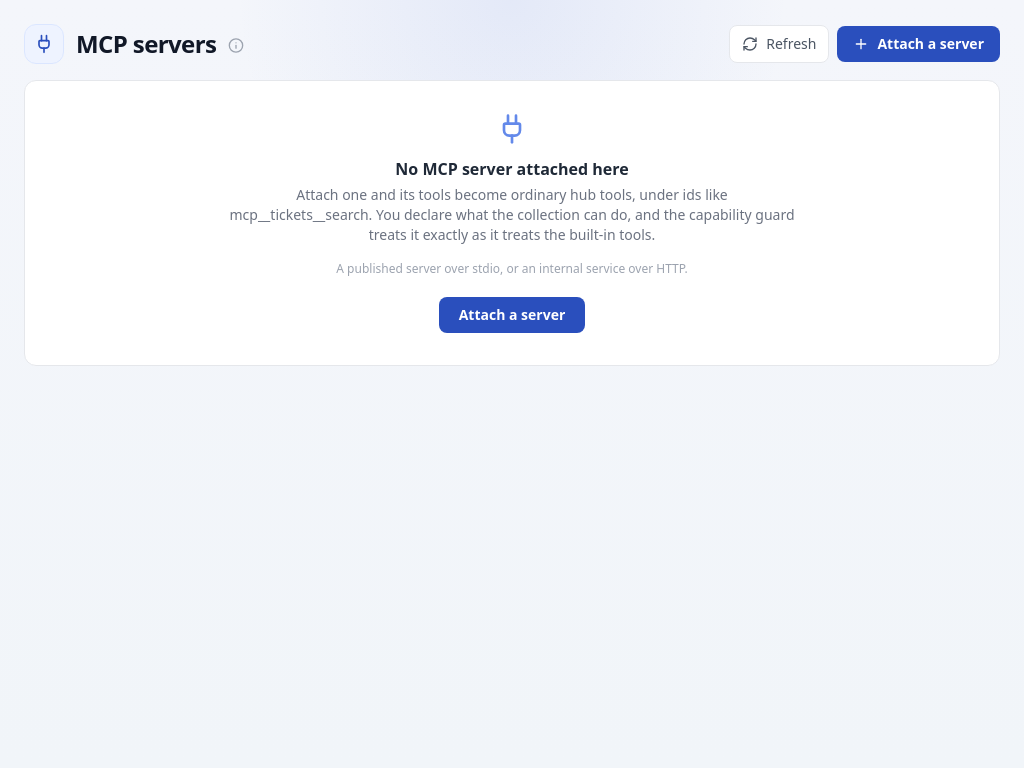
Scenario: Mcp — the empty state › asks for the capability declaration as part of attaching
Expected: the heading "No MCP server attached here" is shown, [395,158,629,180]
Click the button "Attach a server" in the row of "MCP servers": (919, 44) [837,26,1000,62]
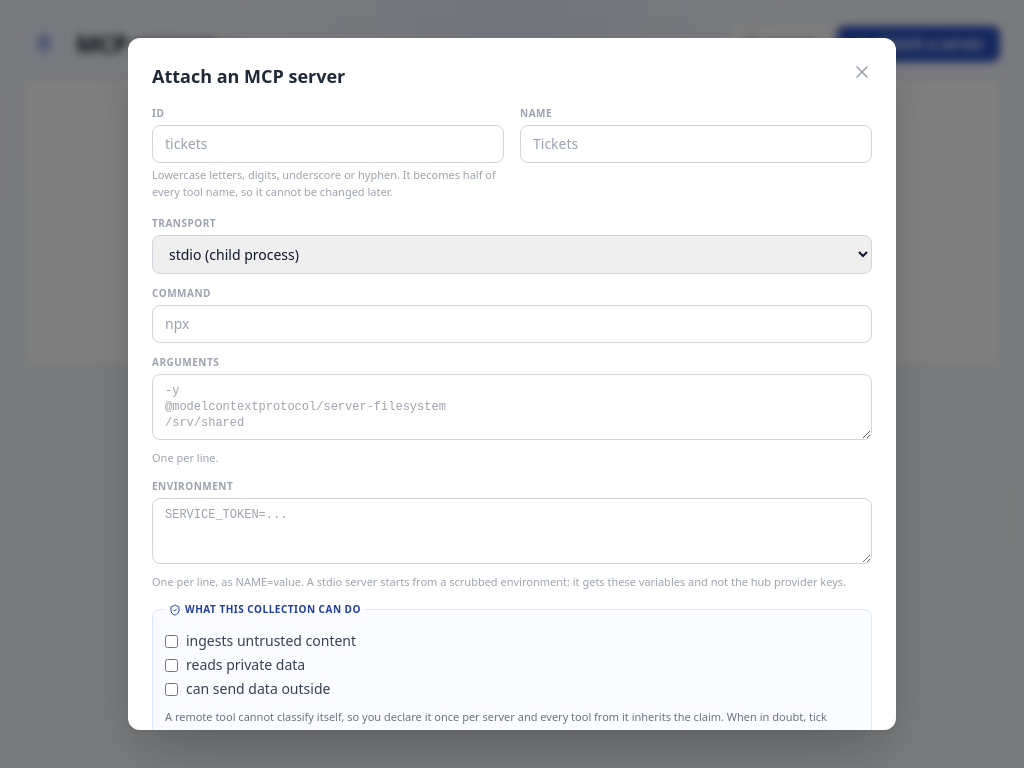
Now the text "What this collection can do" is shown, box [165,602,365,617]
Now the text "ingests untrusted content" is shown, box [165,631,356,650]
Now the text "reads private data" is shown, box [165,655,305,674]
